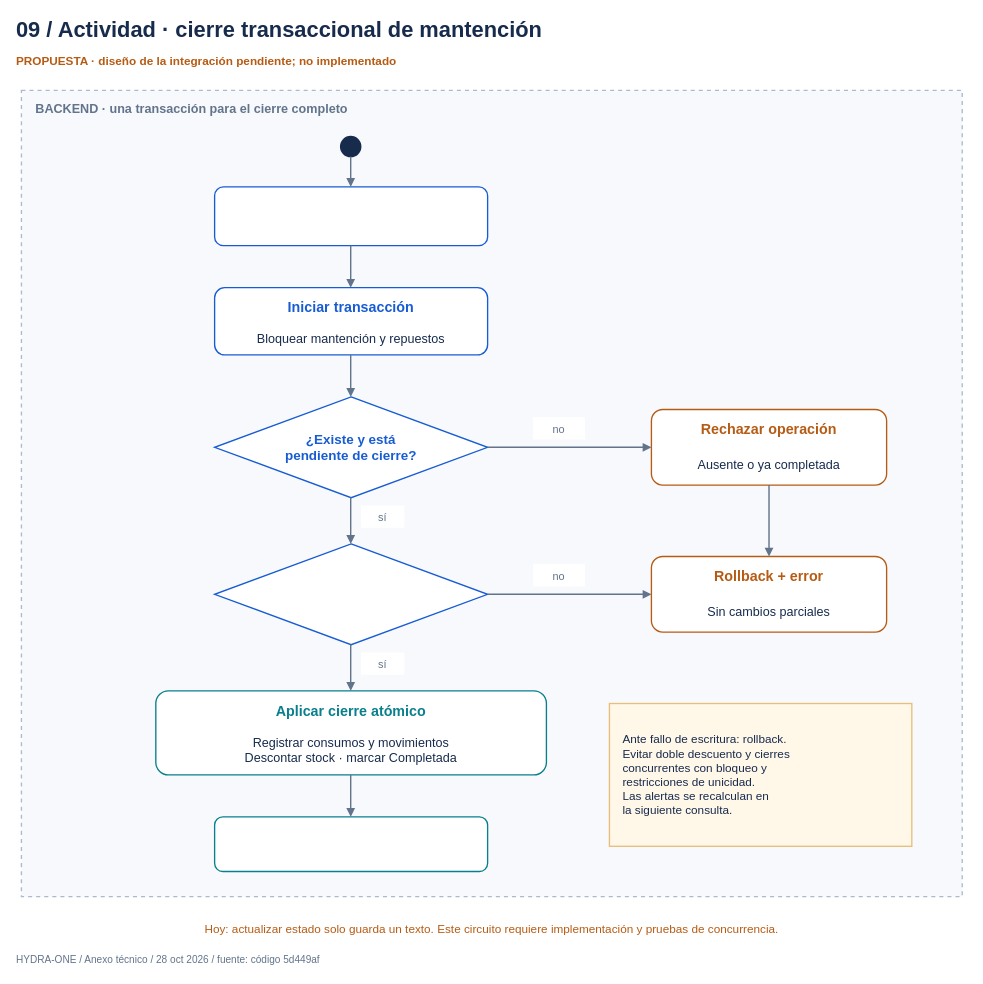
The diagram is 983 pixels wide and 984 high, and some of its shapes have lost their labels. The shapes that lost their labels are listed below. From the top down, each one's centre as x and y in pixels, then its label:
(351,216): Solicitar cierre y consumos
(351,594): ¿Cantidades válidas y stock suficiente?
(351,844): Commit · devolver resultado
